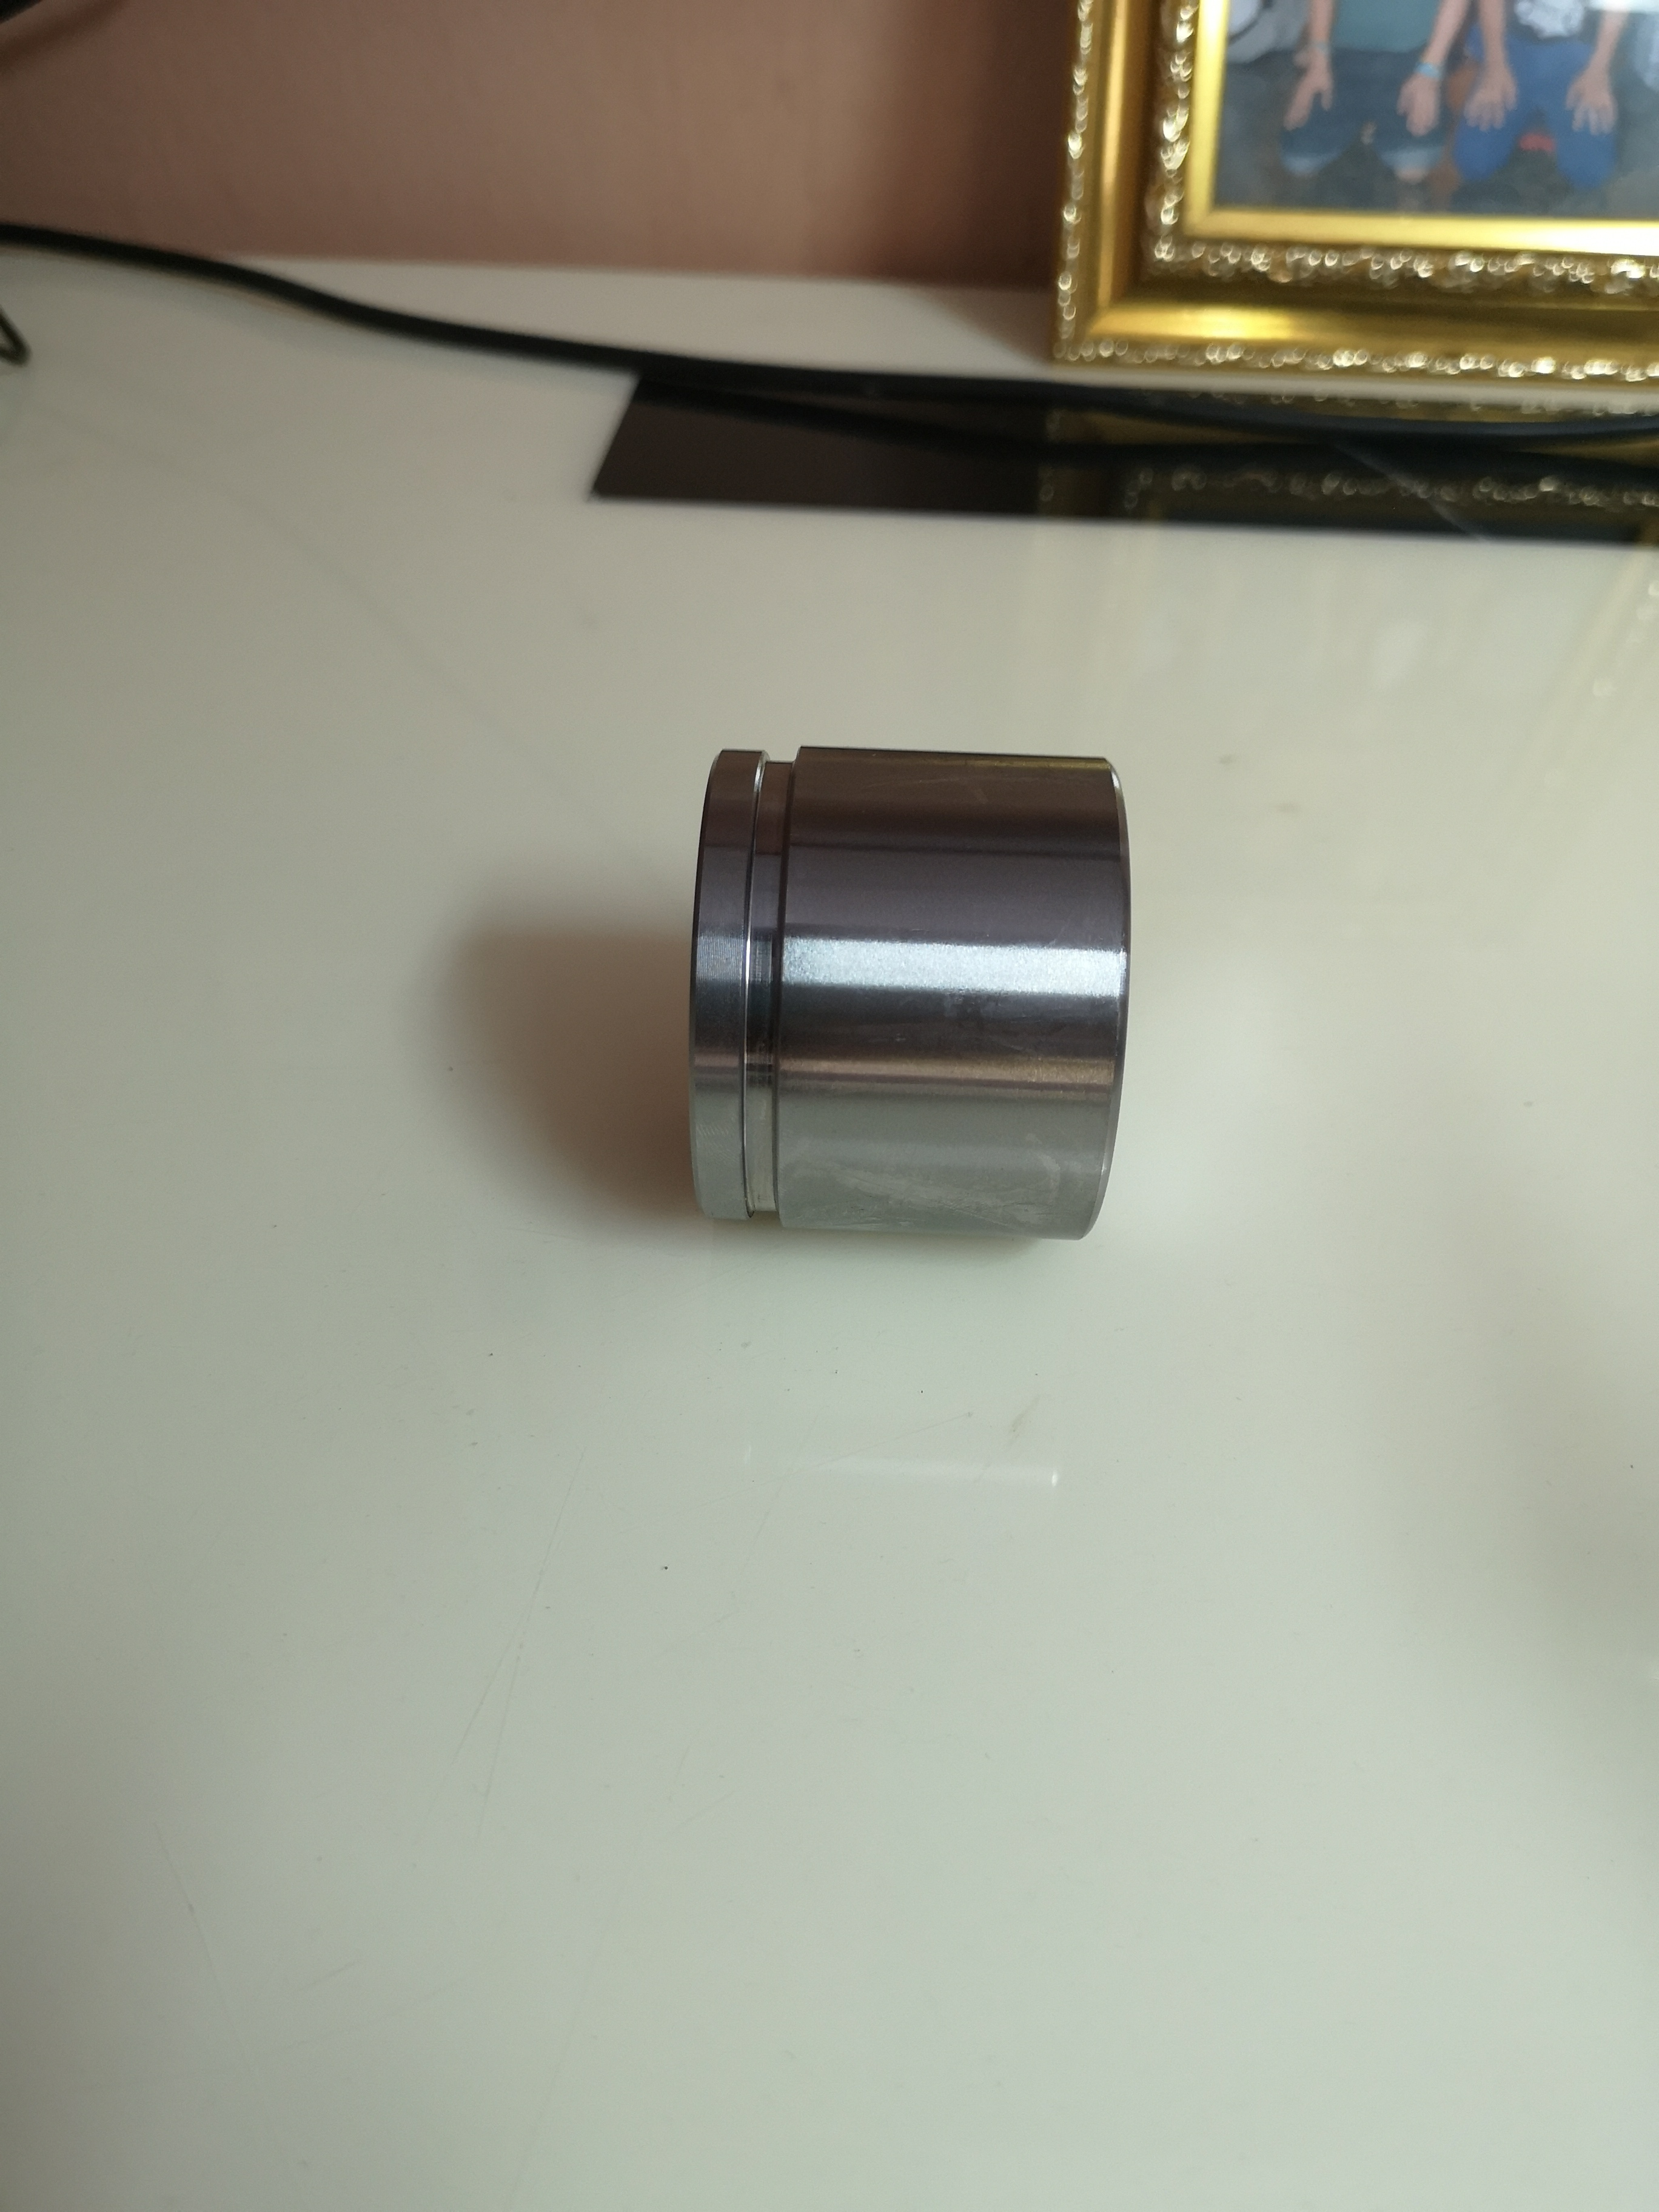ลูกสูบดิสเบรค: (680, 737, 1131, 1252)
